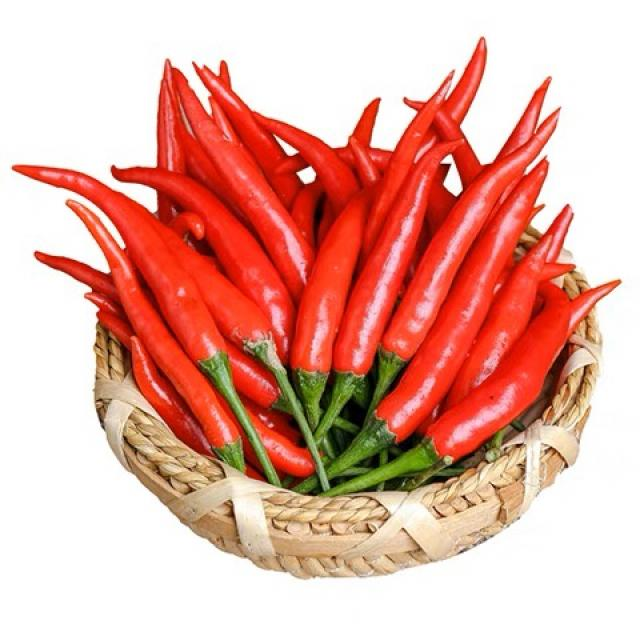red chili: (46, 173, 280, 485), (323, 282, 621, 497), (376, 160, 549, 443), (69, 201, 244, 471), (315, 143, 456, 443), (371, 171, 501, 415), (291, 191, 371, 430)
